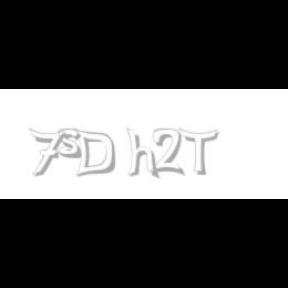2: (149, 128, 183, 176)
7: (30, 128, 66, 178)
D: (72, 128, 116, 178)
T: (178, 128, 218, 176)
h: (126, 128, 162, 180)
s: (58, 128, 86, 160)
